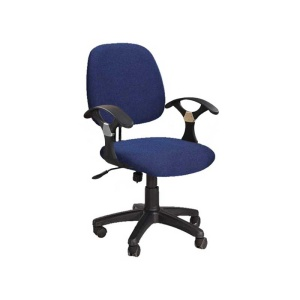chair: (83, 42, 220, 258)
